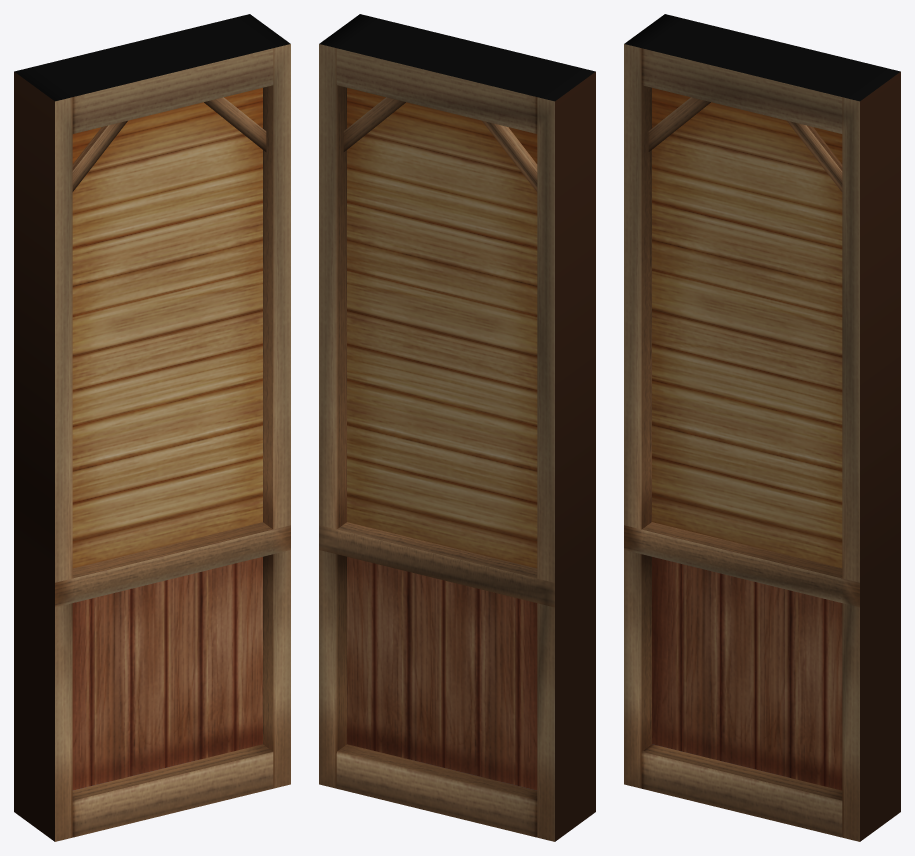
Rendered from a_SWGiwall02A.glb.
The picture shows the model from 3 angles, left to right: view 1: azimuth 30°, elevation 25°; view 2: azimuth 150°, elevation 25°; view 3: azimuth 330°, elevation 25°; orthographic projection.
Visible parts, largest first — view 1: a_SWGiwall02A; view 2: a_SWGiwall02A; view 3: a_SWGiwall02A.
Part boxes in pixels (x1,y1,x2,y2): a_SWGiwall02A: (14,14,290,841); a_SWGiwall02A: (319,14,595,841); a_SWGiwall02A: (624,14,900,841).
Size of the model in its own units: 1 by 3 by 0.3004.
2 materials, 2 textured.
